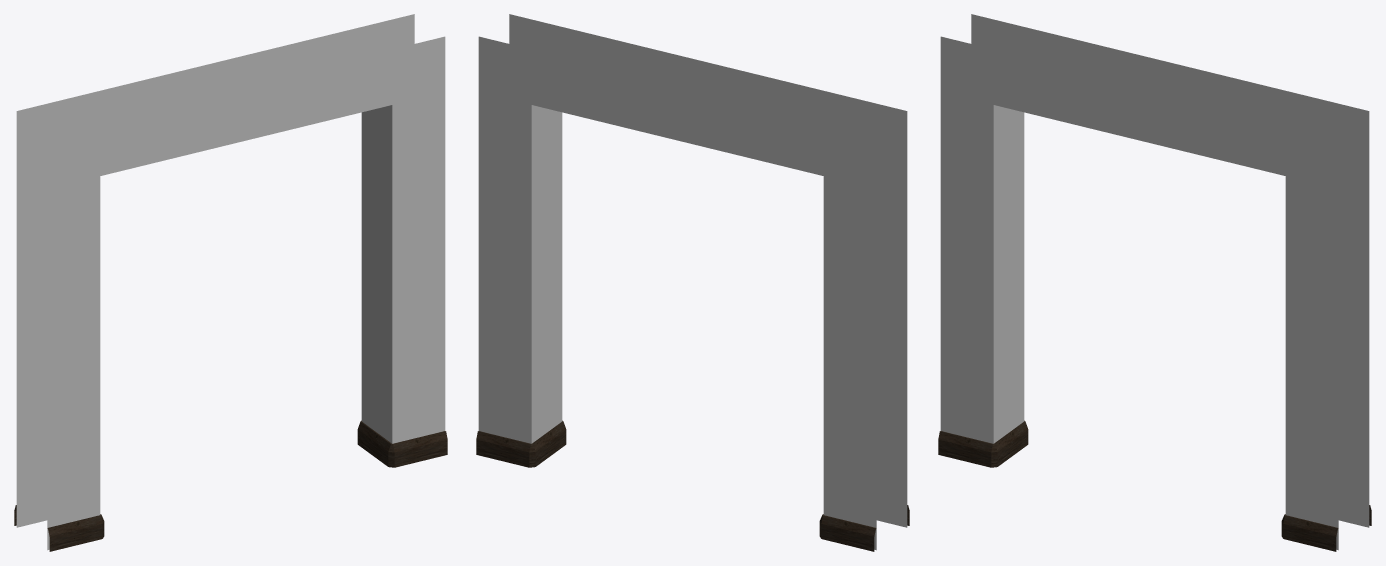
Rendered from arc_1_wall_1.fbx.
3 renders of one model, left to right at view 1: azimuth 30°, elevation 25°; view 2: azimuth 150°, elevation 25°; view 3: azimuth 330°, elevation 25°, orthographic.
Parts seen in each view (by area): view 1: arc_1_wall_1; view 2: arc_1_wall_1; view 3: arc_1_wall_1.
Part boxes in pixels (x1,y1,x2,y2): arc_1_wall_1: [14, 14, 447, 551]; arc_1_wall_1: [476, 14, 909, 551]; arc_1_wall_1: [938, 14, 1371, 551].
Bounding box in the file's own units: 3 × 3 × 0.46.
